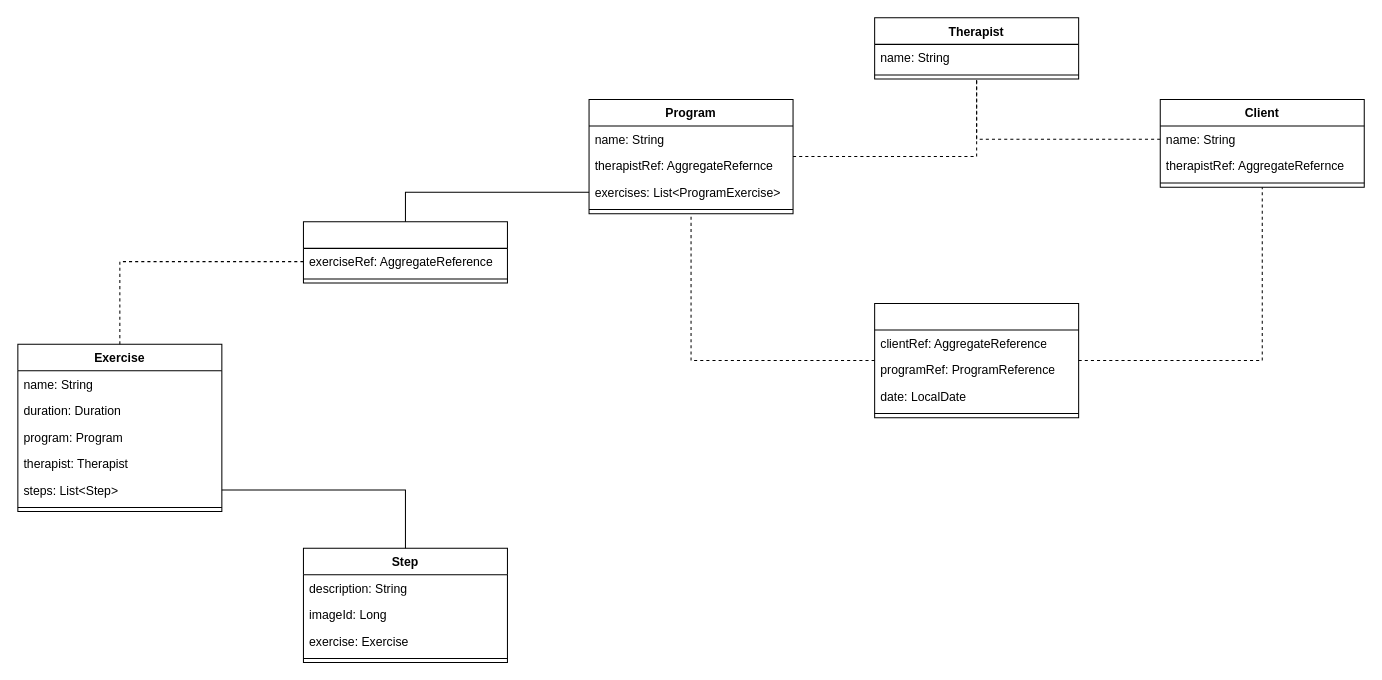
The diagram is 1382 pixels wide and 680 high, and some of its shapes have lost their labels. The shapes that lost their labels are listed below. From the top down, each one's box as (x1, y1, x2, y2) in pixels, then its label:
(302, 221, 507, 283): ProgramExercise
(874, 302, 1079, 418): ProgramExecution
